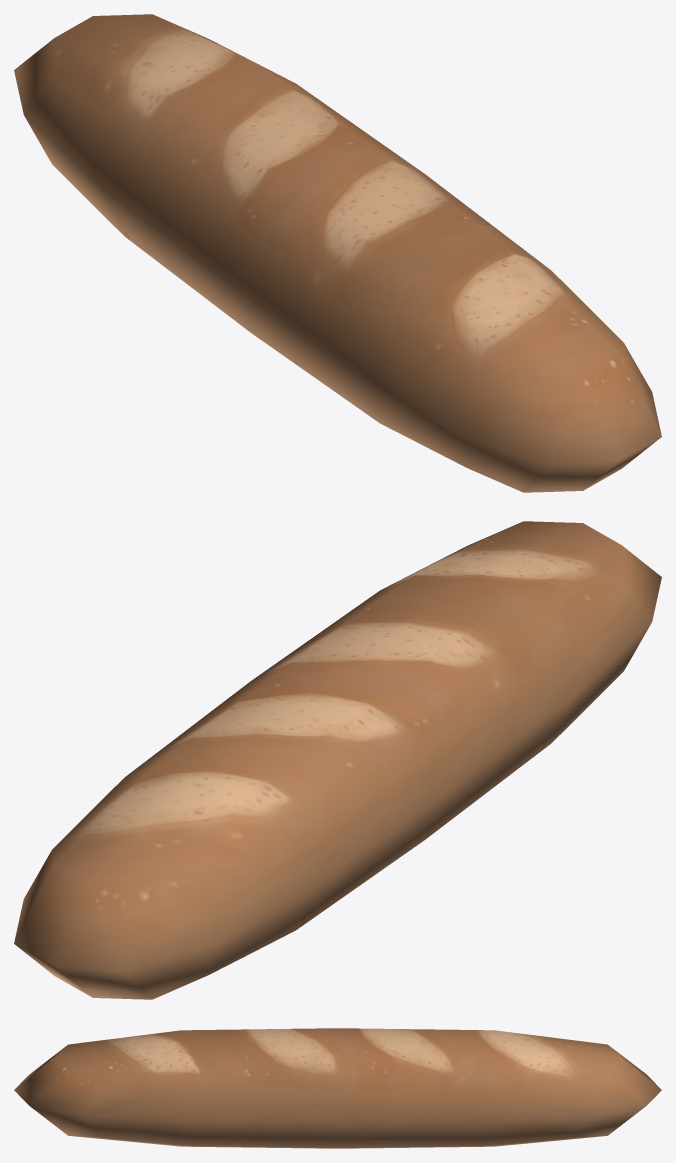
File: handpainted_baguette.fbx
The picture shows the model from 3 angles, top to bottom: view 1: azimuth 30°, elevation 25°; view 2: azimuth 150°, elevation 25°; view 3: azimuth 270°, elevation 25°; orthographic projection. The views are drawn at different scales.
Parts seen in each view (by area): view 1: Baguette; view 2: Baguette; view 3: Baguette.
Boxes of the visible parts, x1=… form: Baguette: x1=14, y1=14, x2=661, y2=492; Baguette: x1=14, y1=521, x2=661, y2=999; Baguette: x1=14, y1=1028, x2=661, y2=1148.
Bounding box in the file's own units: 213 × 153 × 933.
Materials: 1 (1 with a texture image).
